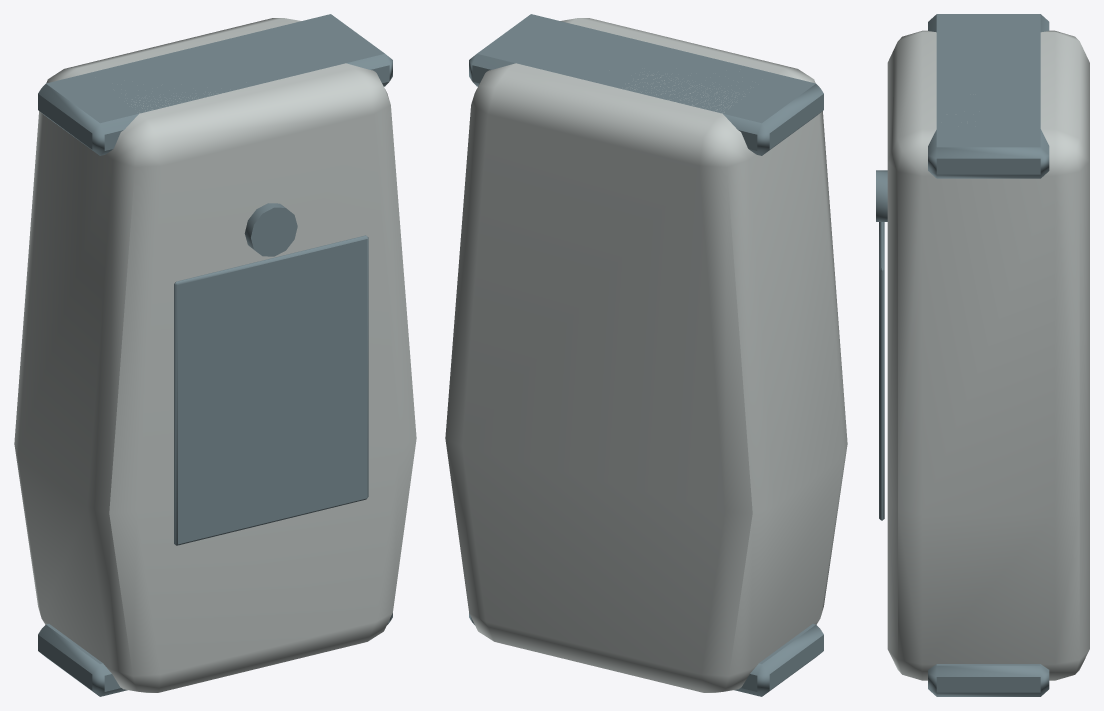
Rendered from coffee-bag.glb.
The picture shows the model from 3 angles, left to right: view 1: azimuth 30°, elevation 25°; view 2: azimuth 150°, elevation 25°; view 3: azimuth 270°, elevation 25°; orthographic projection. The views are drawn at different scales.
Parts seen in each view (by area): view 1: puffed_pouch, raised_label, heat_seal.001, heat_seal, valve; view 2: puffed_pouch, heat_seal.001, heat_seal; view 3: puffed_pouch, heat_seal.001, heat_seal, raised_label, valve.
Boxes of the visible parts, x1,y1,x2,y2 form: puffed_pouch: (14,18,416,692); raised_label: (174,235,368,545); heat_seal.001: (38,14,392,155); heat_seal: (38,613,392,696); valve: (244,203,297,256); puffed_pouch: (445,18,847,692); heat_seal.001: (469,14,823,155); heat_seal: (469,613,823,696); puffed_pouch: (887,30,1089,680); heat_seal.001: (928,14,1049,178); heat_seal: (928,664,1049,696); raised_label: (879,222,884,520); valve: (876,170,887,221).
Size of the model in its own units: 0.1248 by 0.21 by 0.074.
